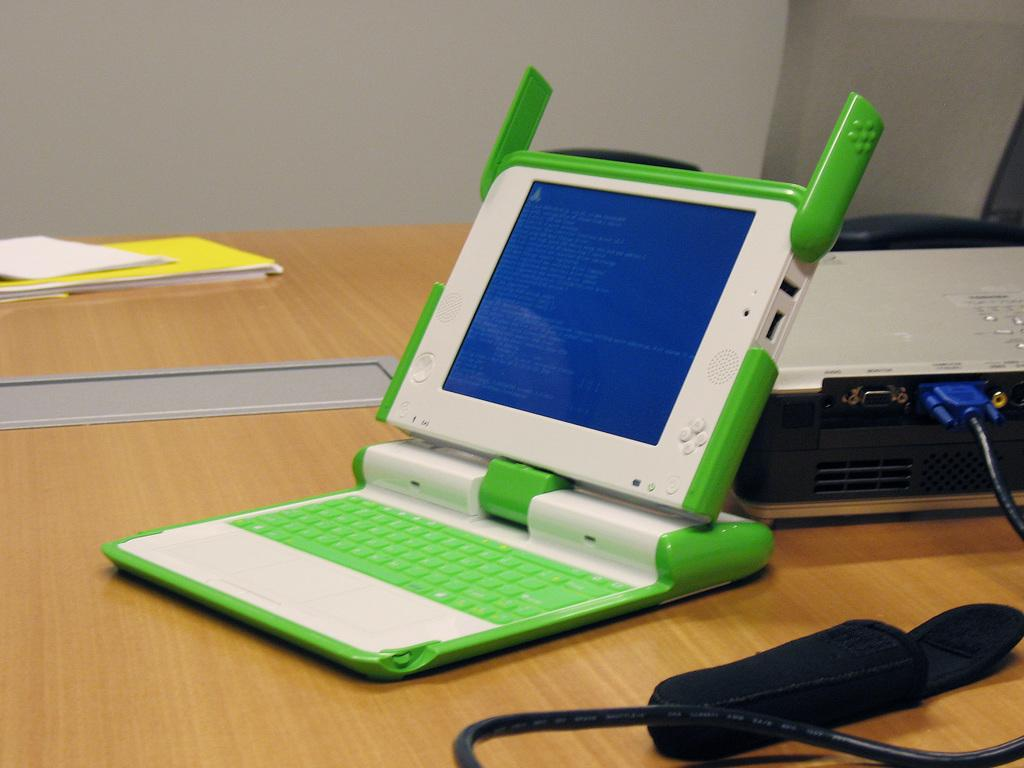Computer-keyboard: (221, 488, 639, 627)
